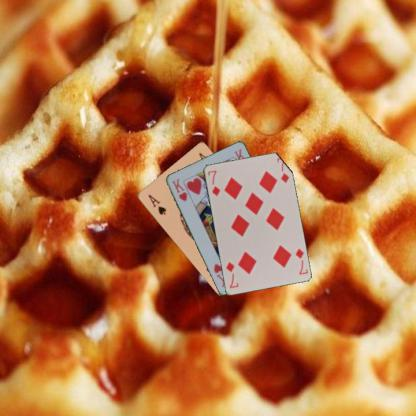7d: (205, 168, 221, 197), (293, 246, 308, 276)
As: (145, 192, 167, 216)
Kh: (169, 176, 188, 202)
